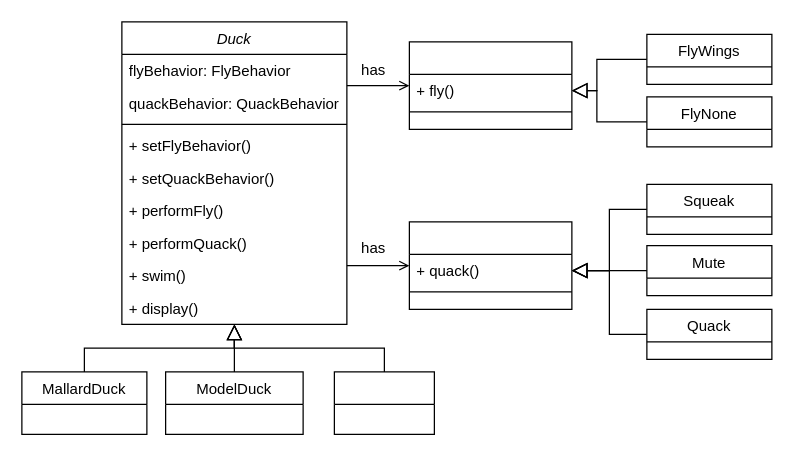
Some shapes in this 794 by 456 pixel diagram are drawn without their labels. Each missing label, with the box of its shape:
FlyBehavior: (408, 41, 572, 129)
more...: (333, 371, 434, 434)
QuackBehavior: (408, 221, 572, 309)
